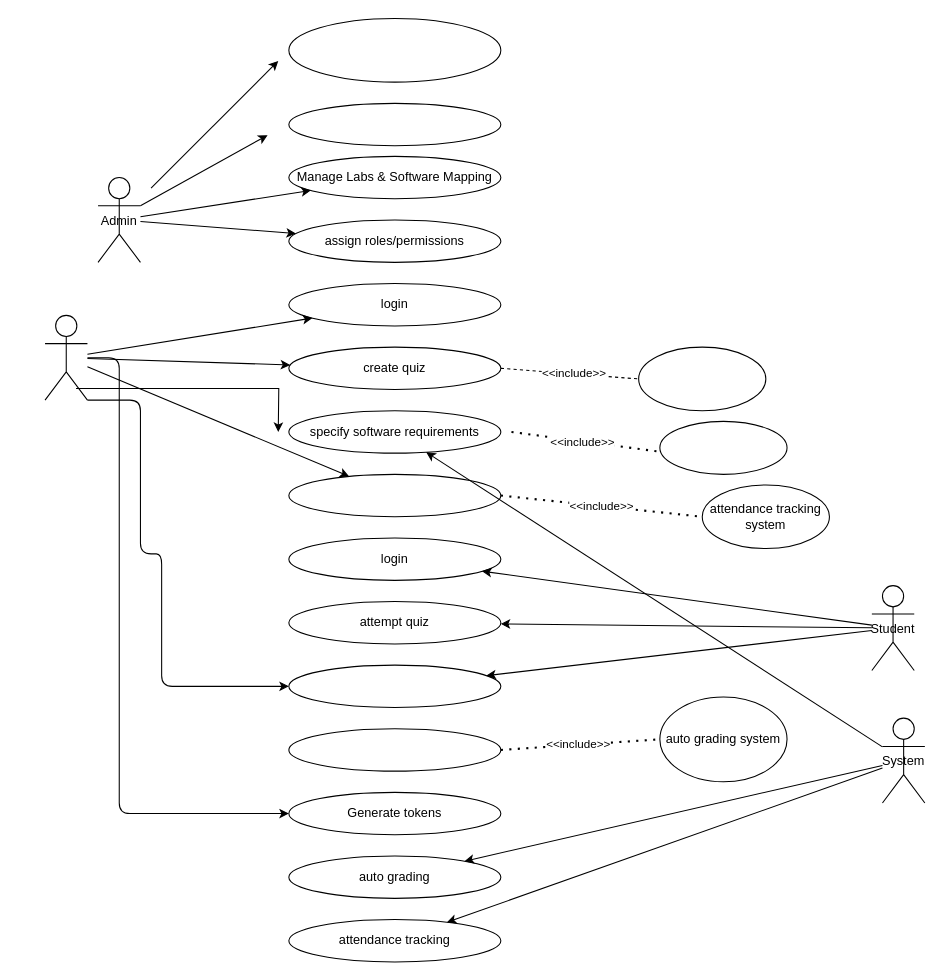
Image size: 944x980. Some labels were removed from this diagram. The shapes that lost their labels are listed below. From the top down, each one's centre as x and y in pixels, then its label:
the point at 394,49: manage system configurations
the point at 394,124: manage users
the point at 65,357: Teacher / Faculty
the point at 702,378: upload exam file
the point at 723,447: book lab
the point at 394,495: monitor sessions
the point at 394,686: view results
the point at 394,749: Review & Override Grades
